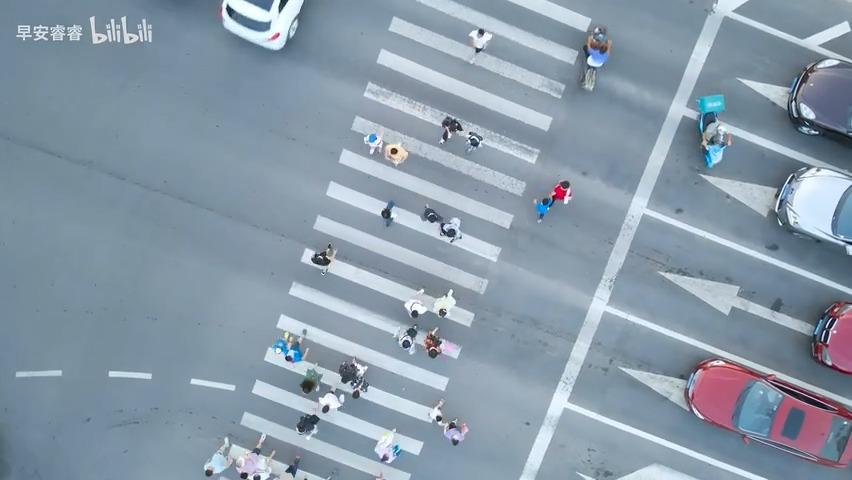Civilian: (233, 427, 275, 480), (582, 25, 612, 68), (203, 436, 234, 476), (373, 428, 400, 463), (467, 28, 492, 64), (310, 242, 337, 275), (700, 122, 732, 149), (284, 328, 309, 362), (393, 323, 418, 355), (317, 387, 344, 414), (438, 115, 463, 144), (403, 287, 426, 318), (299, 362, 322, 393), (432, 288, 456, 317), (349, 356, 368, 392), (443, 419, 468, 446), (548, 179, 572, 205), (295, 413, 319, 439), (439, 216, 462, 243), (423, 326, 443, 357), (532, 195, 553, 223), (384, 142, 408, 166), (363, 128, 384, 155), (427, 398, 445, 424), (272, 331, 292, 354), (465, 130, 483, 154), (284, 454, 301, 478), (380, 200, 395, 227), (423, 203, 442, 223), (375, 471, 385, 479)
